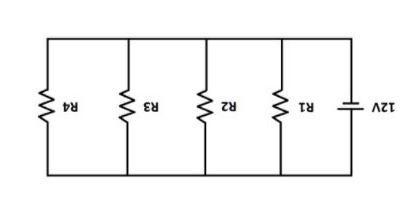resistor: (261, 78, 292, 131), (190, 79, 218, 133), (34, 82, 60, 128), (113, 77, 137, 126)
